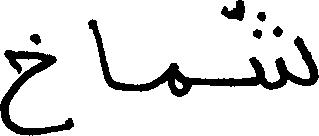X: (250, 7, 318, 94), (0, 29, 55, 135), (90, 14, 111, 92), (169, 58, 188, 101)
